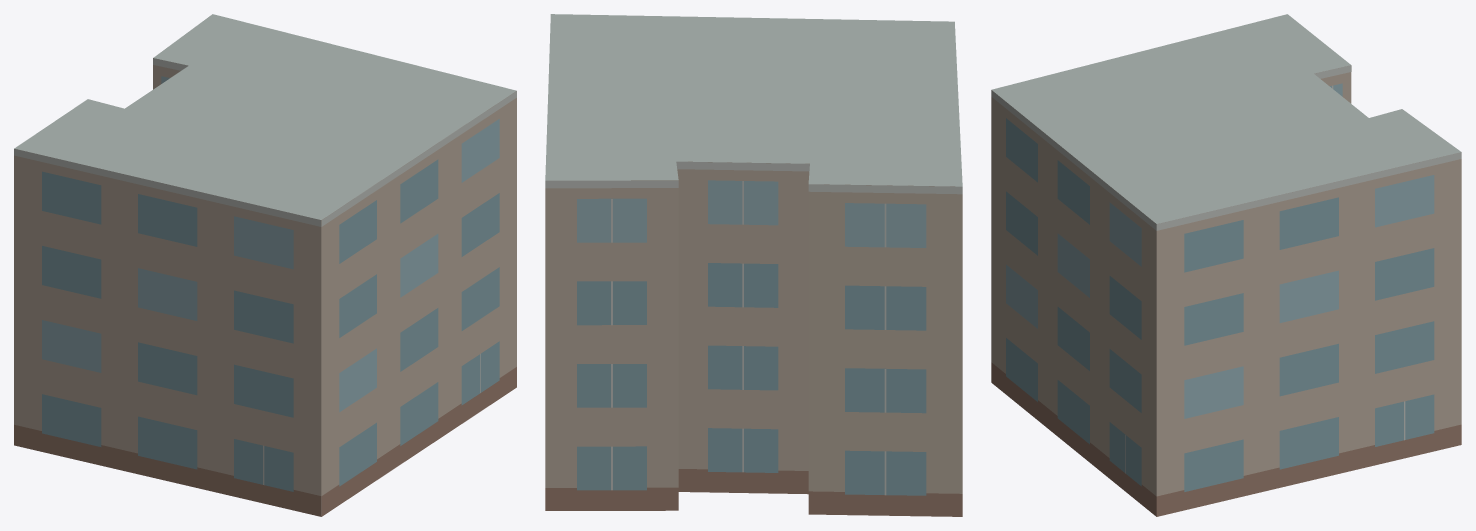
File: survey-upis-32748079.glb
3 views of the same model, side by side, from view 1: azimuth 30°, elevation 25°; view 2: azimuth 150°, elevation 25°; view 3: azimuth 270°, elevation 25° (orthographic). The views are drawn at different scales.
Parts seen in each view (by area): view 1: survey-upis-32748079.tmp; view 2: survey-upis-32748079.tmp; view 3: survey-upis-32748079.tmp.
Part boxes in pixels (box(x1,y1,x2,y2)): survey-upis-32748079.tmp: box(14, 14, 516, 516); survey-upis-32748079.tmp: box(545, 14, 962, 516); survey-upis-32748079.tmp: box(991, 14, 1461, 516).
Bounding box in the file's own units: 16.17 × 10.5 × 15.3.
